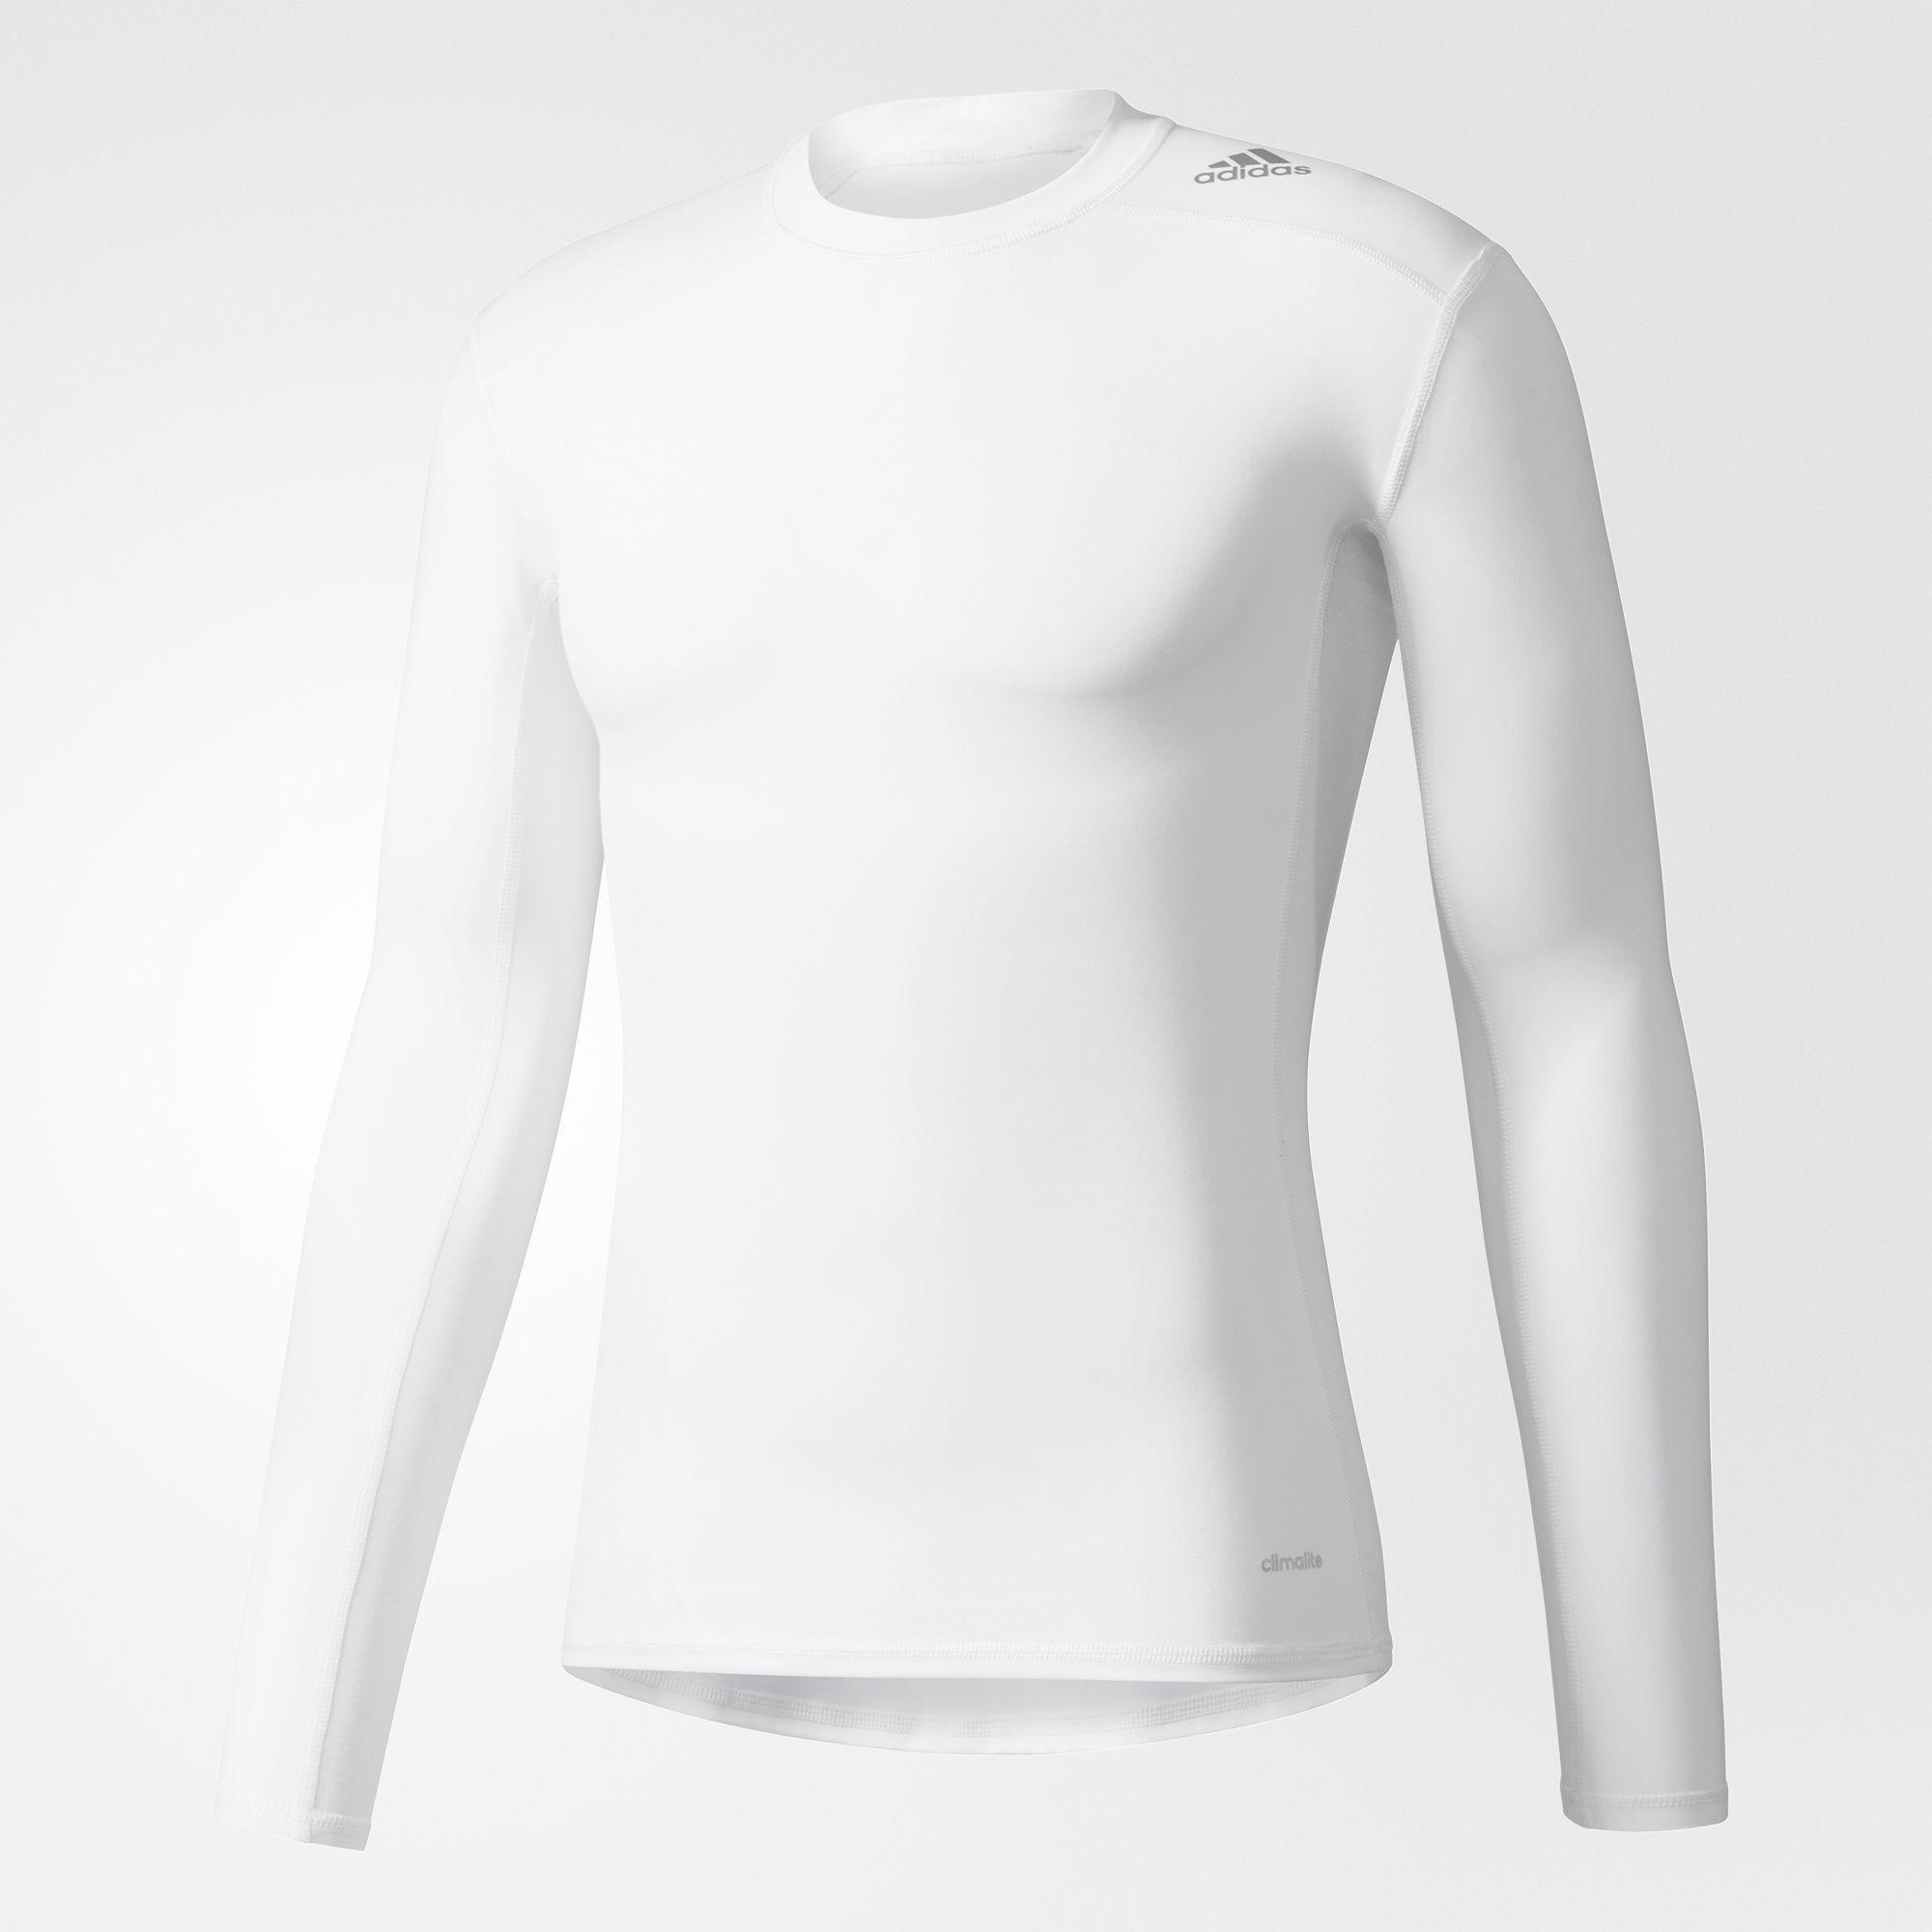teeshirt: (322, 73, 1769, 1920)
